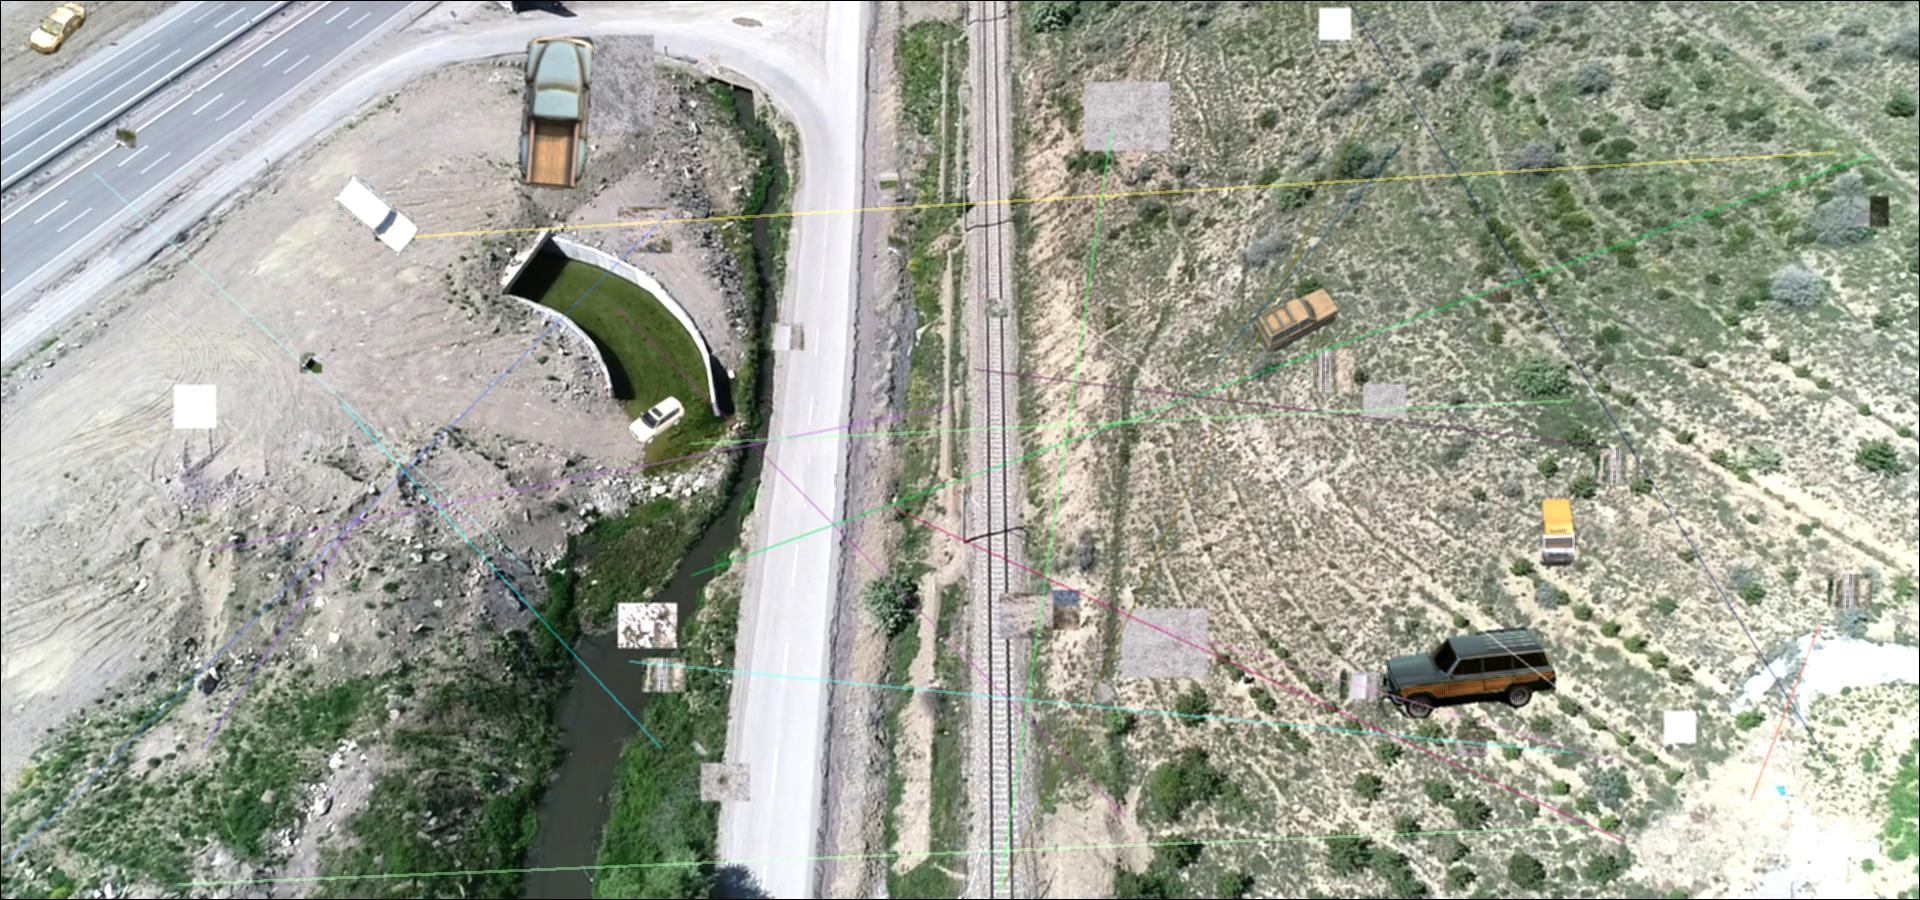arac: (1374, 624, 1556, 718), (519, 37, 594, 191), (331, 173, 419, 253), (1251, 285, 1341, 351), (28, 2, 93, 58), (627, 396, 687, 444), (1540, 497, 1580, 566)
